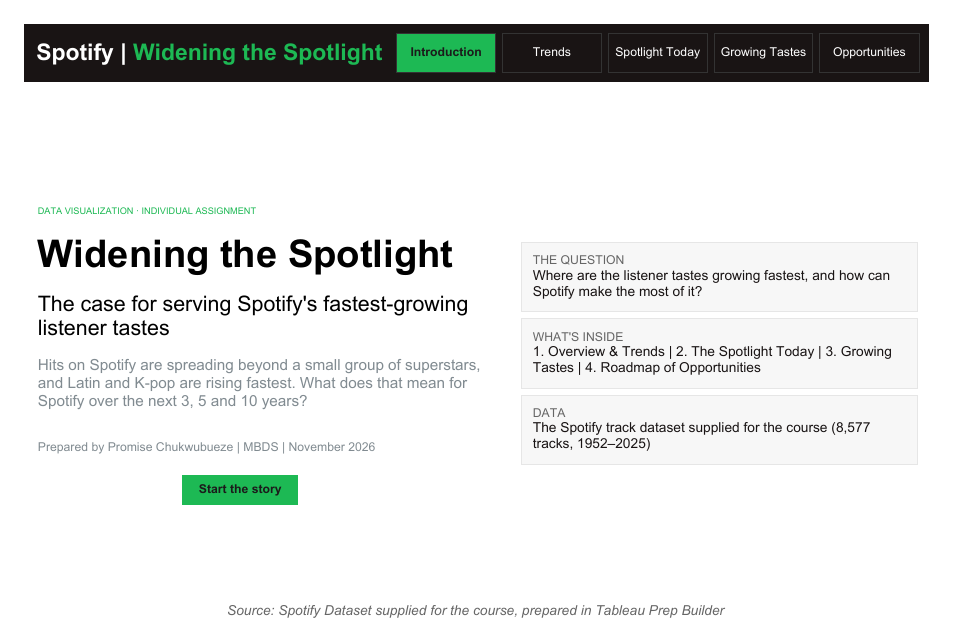

What the dashboard file says about the page in this screenshot:
{"tool":"tableau","page":{"name":"Introduction","canvas":[1200,800],"ordinal":1},"visuals":[{"type":"text","box":[16,16,475,60]},{"type":"dashboard-object","box":[491,16,138.6,60]},{"type":"dashboard-object","box":[629.6,16,138.6,60]},{"type":"dashboard-object","box":[768.2,16,138.6,60]},{"type":"dashboard-object","box":[906.8,16,138.6,60]},{"type":"dashboard-object","box":[1045.4,16,138.6,60]},{"type":"text","box":[8,84,637,676]},{"type":"blank","box":[655,94,527,195]},{"type":"text","box":[655,289,527,100]},{"type":"text","box":[655,389,527,100]},{"type":"text","box":[655,489,527,100]},{"type":"blank","box":[655,589,527,121]},{"type":"dashboard-object","box":[209,592,164,52]},{"type":"text","box":[8,760,1184,32]}]}

Visuals, with their boxes in screenshot pixels (x1, y1, x2, y2), scaled from the page's 1200x800 canvas onto the 953x642 screenshot:
text: x1=13 y1=13 x2=390 y2=61
dashboard-object: x1=390 y1=13 x2=500 y2=61
dashboard-object: x1=500 y1=13 x2=610 y2=61
dashboard-object: x1=610 y1=13 x2=720 y2=61
dashboard-object: x1=720 y1=13 x2=830 y2=61
dashboard-object: x1=830 y1=13 x2=940 y2=61
text: x1=6 y1=67 x2=512 y2=610
blank: x1=520 y1=75 x2=939 y2=232
text: x1=520 y1=232 x2=939 y2=312
text: x1=520 y1=312 x2=939 y2=392
text: x1=520 y1=392 x2=939 y2=473
blank: x1=520 y1=473 x2=939 y2=570
dashboard-object: x1=166 y1=475 x2=296 y2=517
text: x1=6 y1=610 x2=947 y2=636
